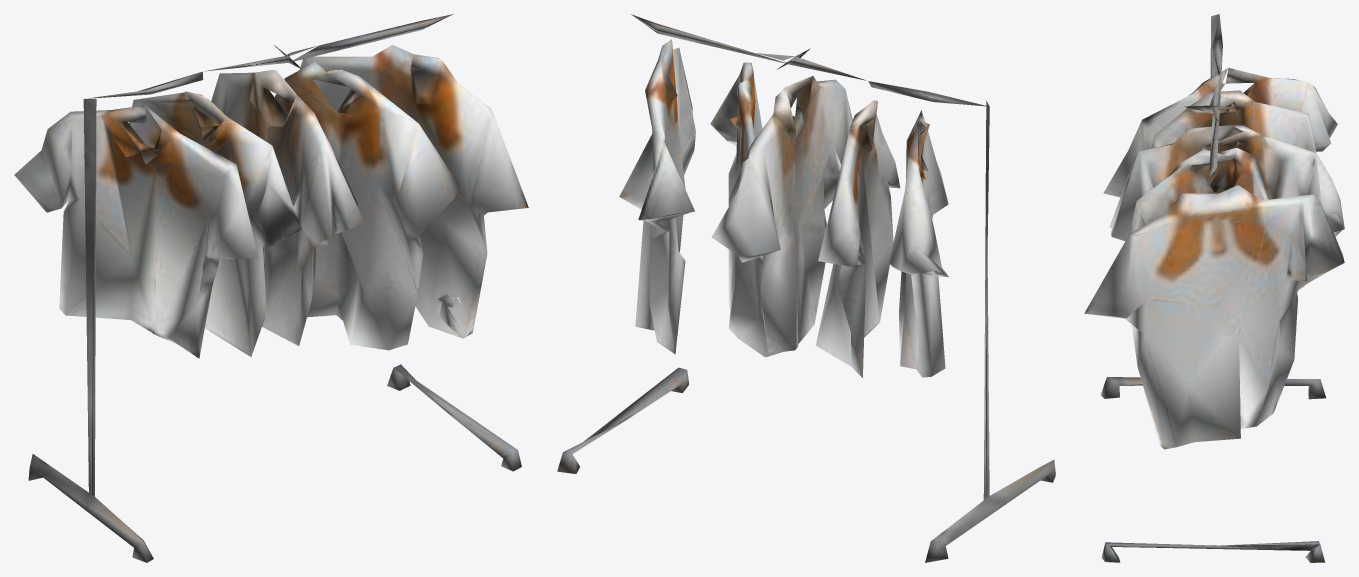
Rendered from prop3d-laundry.glb.
3 views of the same model, side by side, from view 1: azimuth 30°, elevation 25°; view 2: azimuth 150°, elevation 25°; view 3: azimuth 270°, elevation 25° (orthographic). The views are drawn at different scales.
Size of the model in its own units: 1.94 by 2 by 1.23.
Materials: 1 (1 with a texture image).
